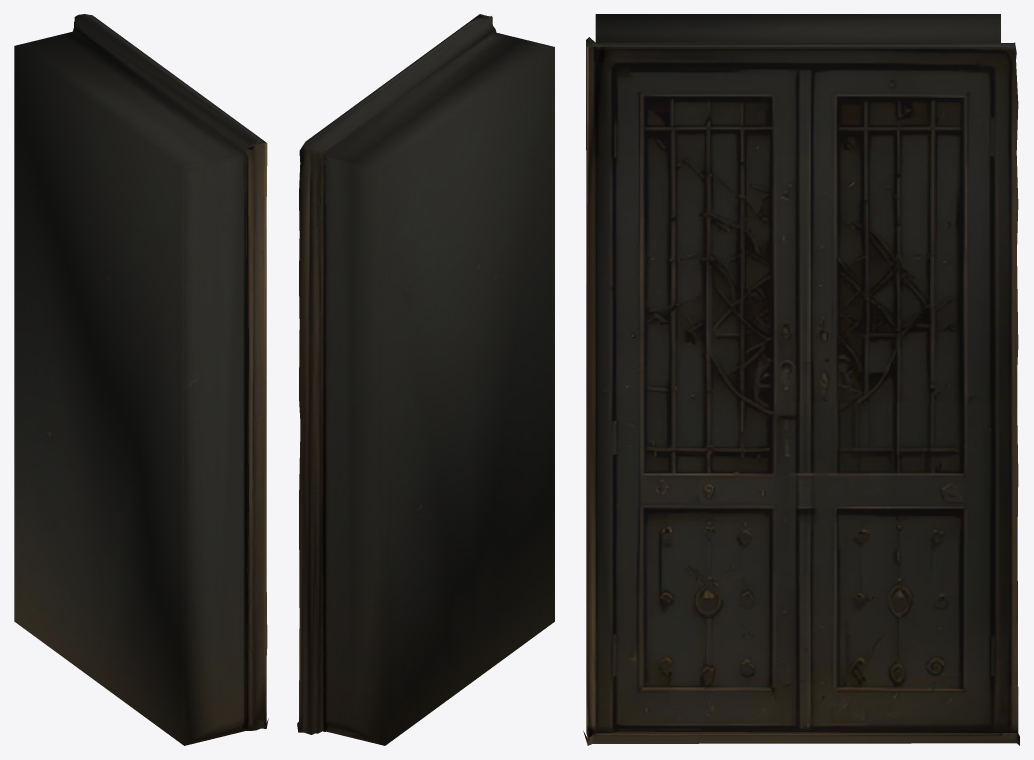
File: House Door.fbx
3 views of the same model, side by side, from view 1: azimuth 30°, elevation 25°; view 2: azimuth 150°, elevation 25°; view 3: azimuth 270°, elevation 25° (orthographic). The views are drawn at different scales.
Visible parts, largest first — view 1: tripo_node_b9e6037a-134e-42d3-b1e3-1d7aa01eae74; view 2: tripo_node_b9e6037a-134e-42d3-b1e3-1d7aa01eae74; view 3: tripo_node_b9e6037a-134e-42d3-b1e3-1d7aa01eae74.
Boxes of the visible parts, left/top/right/bottom form: tripo_node_b9e6037a-134e-42d3-b1e3-1d7aa01eae74: left=14, top=14, right=268, bottom=745; tripo_node_b9e6037a-134e-42d3-b1e3-1d7aa01eae74: left=297, top=14, right=554, bottom=745; tripo_node_b9e6037a-134e-42d3-b1e3-1d7aa01eae74: left=583, top=14, right=1019, bottom=745.
Size of the model in its own units: 13.67 by 95.9 by 54.1.
Materials: 1 (1 with a texture image).
